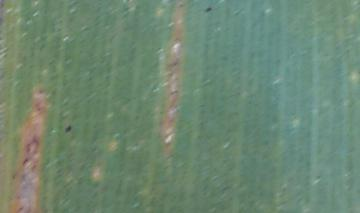tarspot: (61, 124, 74, 135), (202, 6, 214, 14)
